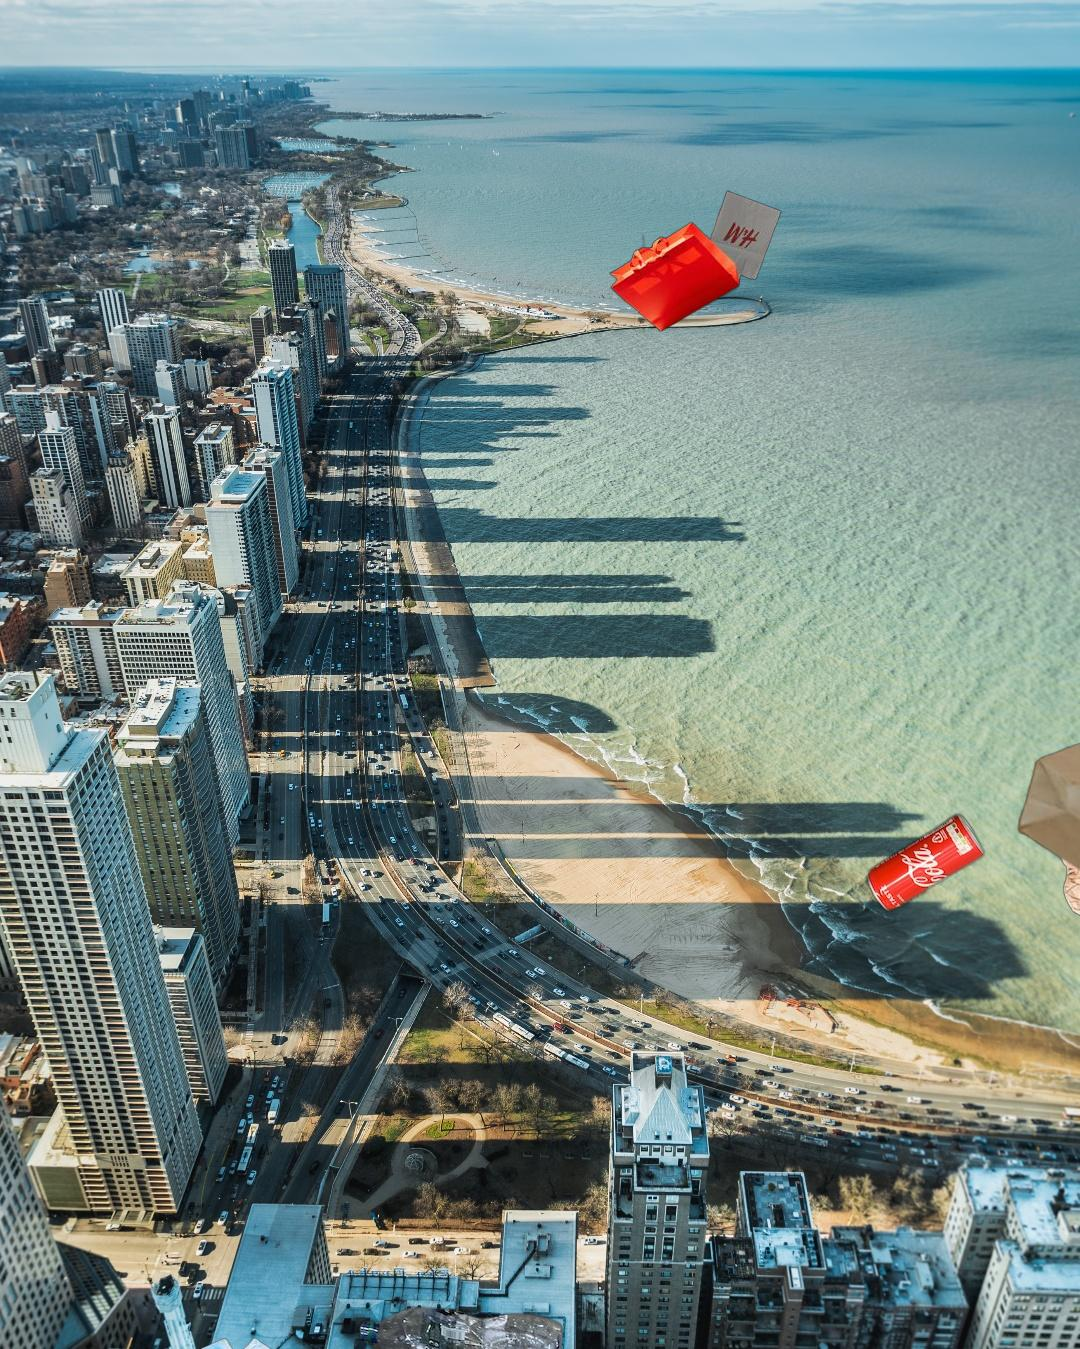metal-cans: (862, 809, 989, 924)
paper-bag: (608, 188, 784, 334), (1015, 682, 1080, 947)
plastic-bottles: (356, 1302, 566, 1349)
trash: (154, 1335, 317, 1349)
